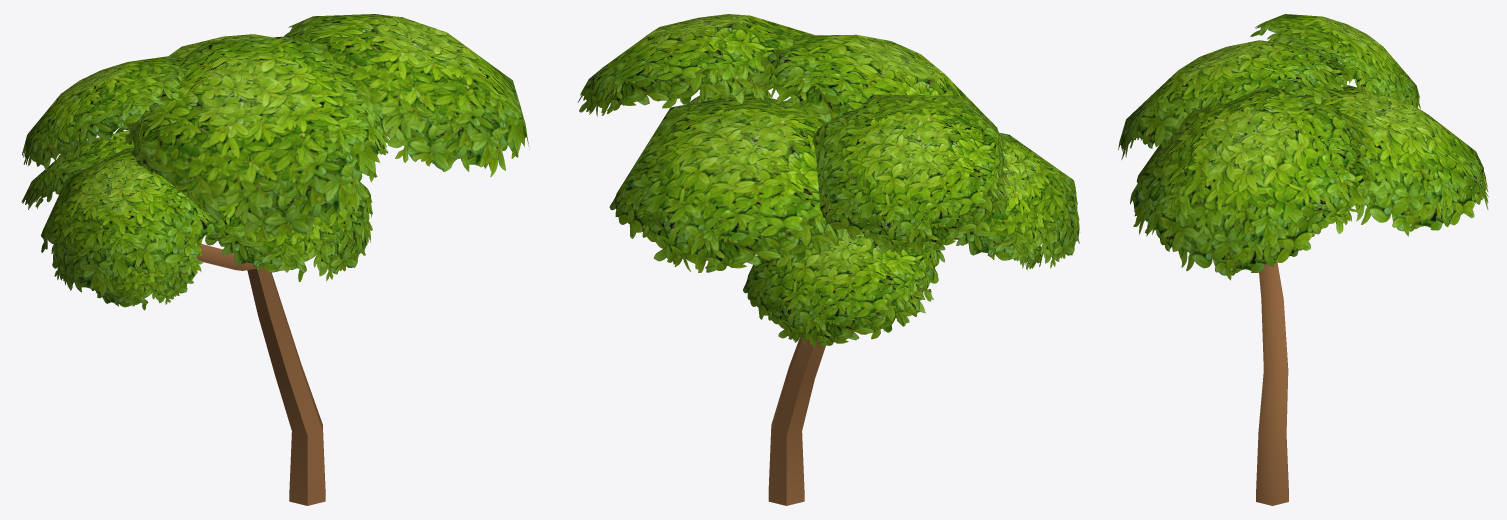
Rendered from tree3.FBX.
3 renders of one model, left to right at view 1: azimuth 30°, elevation 25°; view 2: azimuth 150°, elevation 25°; view 3: azimuth 270°, elevation 25°, orthographic. The views are drawn at different scales.
Visible parts, largest first — view 1: Plane012, Plane011, Plane014, Plane015, tree004, Plane013, Plane018, Plane017, Plane016; view 2: Plane016, Plane015, Plane017, Plane011, Plane012, Plane014, tree004; view 3: Plane011, Plane016, Plane012, tree004, Plane015.
Boxes of the visible parts, bbox=[...] form: Plane012: bbox=[124, 35, 390, 240]; Plane011: bbox=[284, 14, 529, 177]; Plane014: bbox=[41, 148, 216, 296]; Plane015: bbox=[22, 55, 187, 170]; tree004: bbox=[197, 128, 390, 505]; Plane013: bbox=[205, 181, 372, 281]; Plane018: bbox=[91, 245, 203, 310]; Plane017: bbox=[21, 130, 134, 209]; Plane016: bbox=[114, 34, 270, 133]; Plane016: bbox=[609, 93, 848, 272]; Plane015: bbox=[812, 94, 1010, 254]; Plane017: bbox=[743, 228, 945, 347]; Plane011: bbox=[577, 14, 814, 116]; Plane012: bbox=[752, 34, 998, 132]; Plane014: bbox=[956, 132, 1080, 268]; tree004: bbox=[768, 238, 959, 505]; Plane011: bbox=[1130, 85, 1372, 280]; Plane016: bbox=[1298, 85, 1488, 236]; Plane012: bbox=[1118, 40, 1351, 159]; tree004: bbox=[1256, 262, 1288, 505]; Plane015: bbox=[1250, 14, 1420, 108].
Size of the model in its own units: 232 by 213 by 176.
2 materials, 1 textured.
